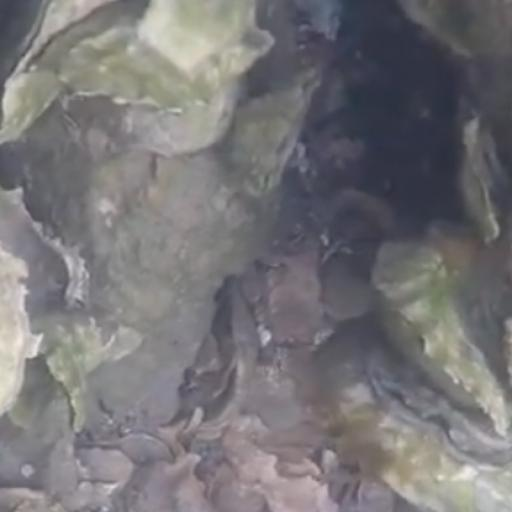Oyster-Closed: (377, 240, 508, 429)
Oyster-Open: (4, 1, 152, 151)
